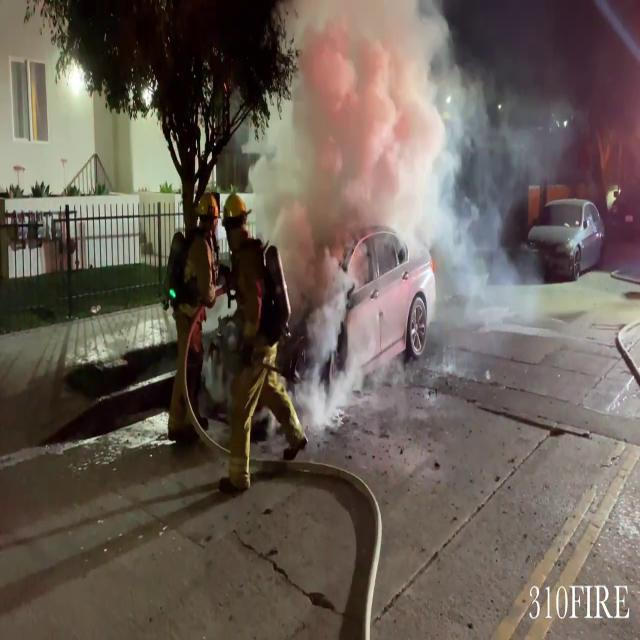Smoke: (249, 1, 531, 346)
